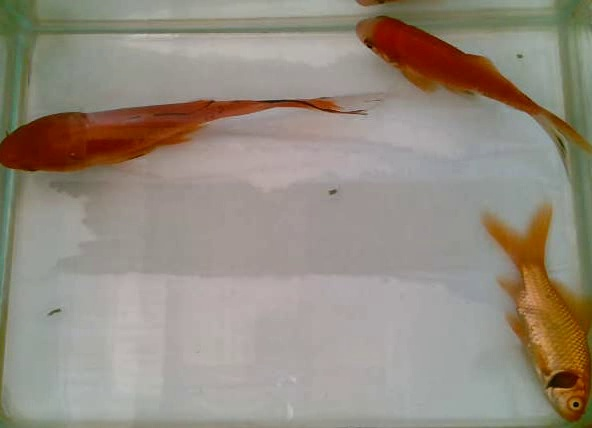alive_fish: (350, 12, 592, 186), (1, 93, 412, 181)
dead_fish: (473, 197, 592, 423)
